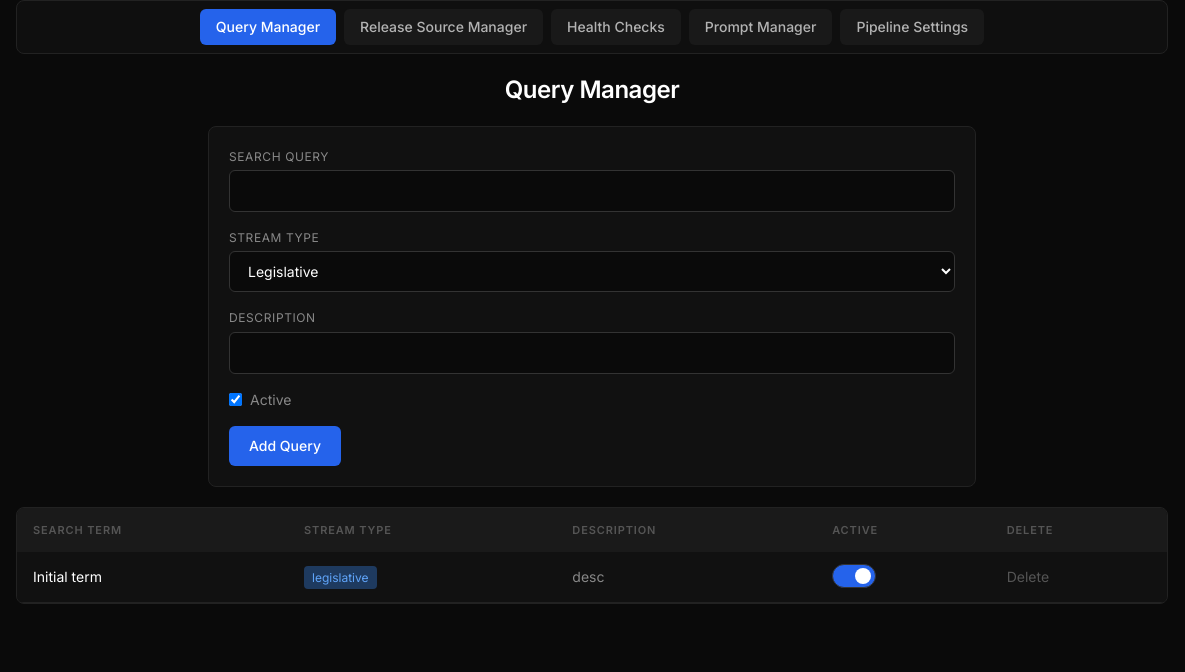
Test: Settings › can add, toggle active state, and delete queries
Check: the text "Initial term" is shown, box left=17, top=552, right=288, bottom=602
Type " New query" into the field labelled "Search query" at [592, 191], box left=229, top=170, right=955, bottom=212
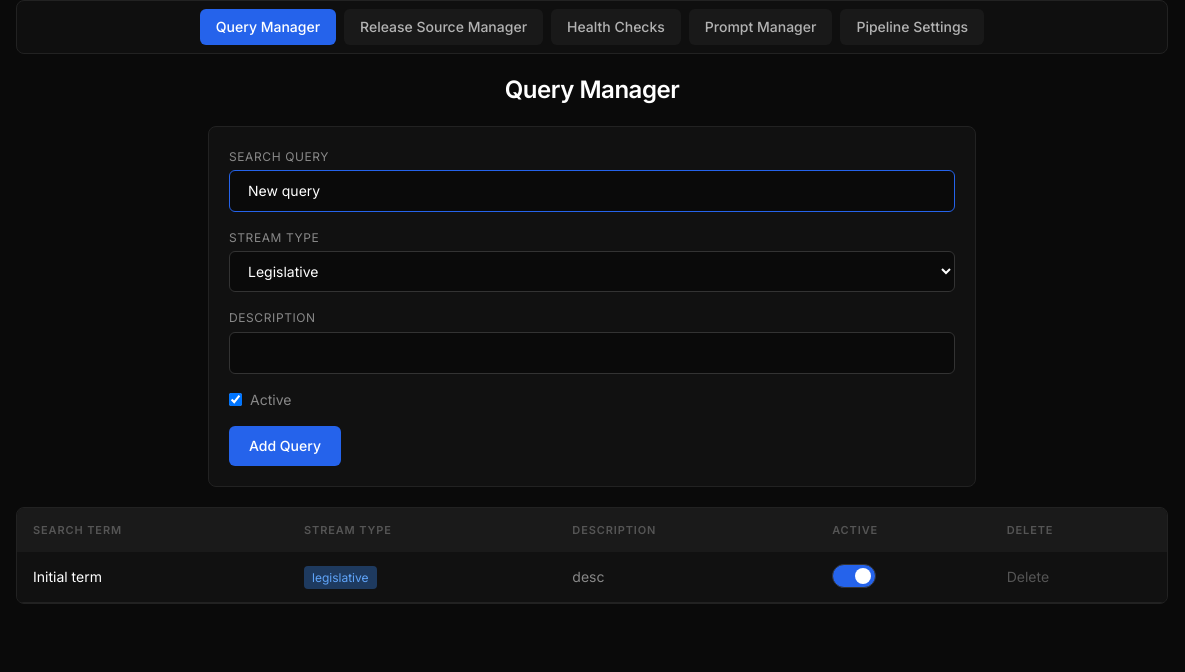
Type " Optional description" into the field labelled "Description" at [592, 353], box left=229, top=332, right=955, bottom=374
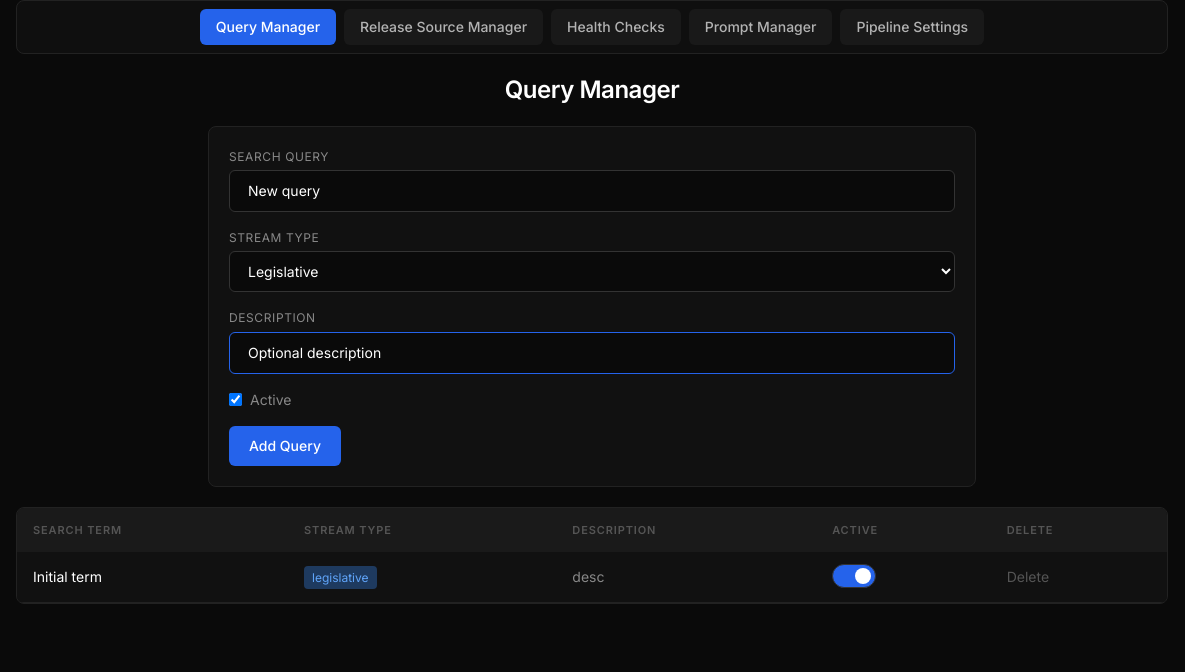
Click the button "Add Query" at [285, 446], box left=229, top=426, right=341, bottom=466
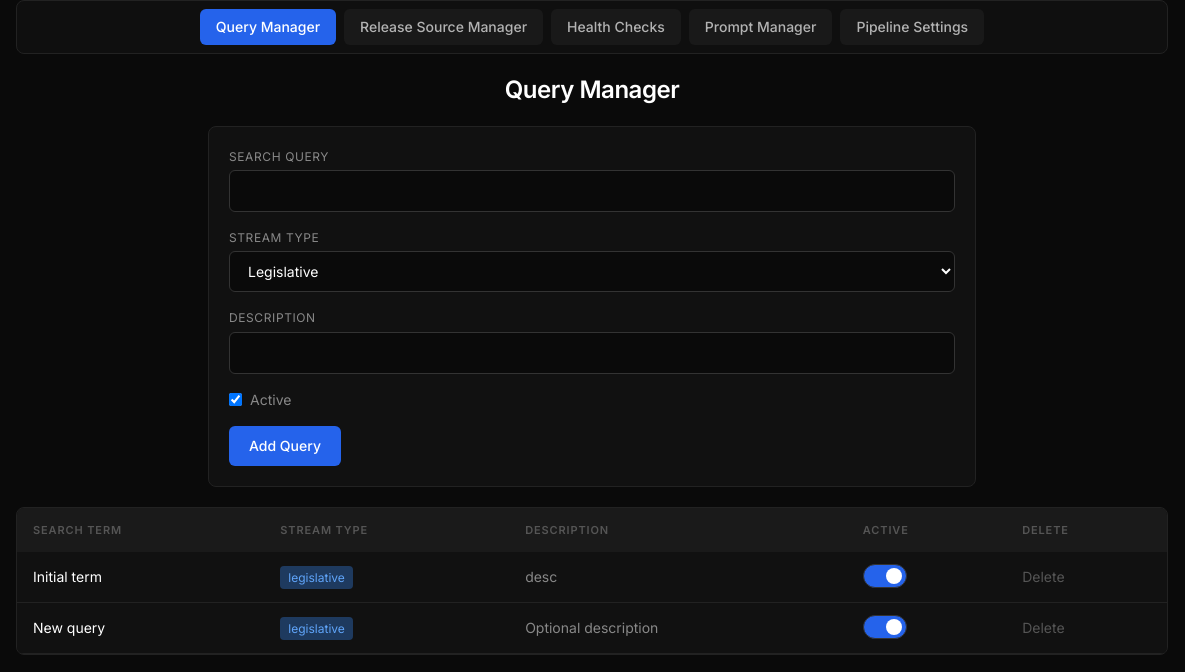
Check: the text "New query" is shown, box left=17, top=602, right=264, bottom=653
Click the button named "toggle-1" at [885, 576], box left=863, top=564, right=907, bottom=588
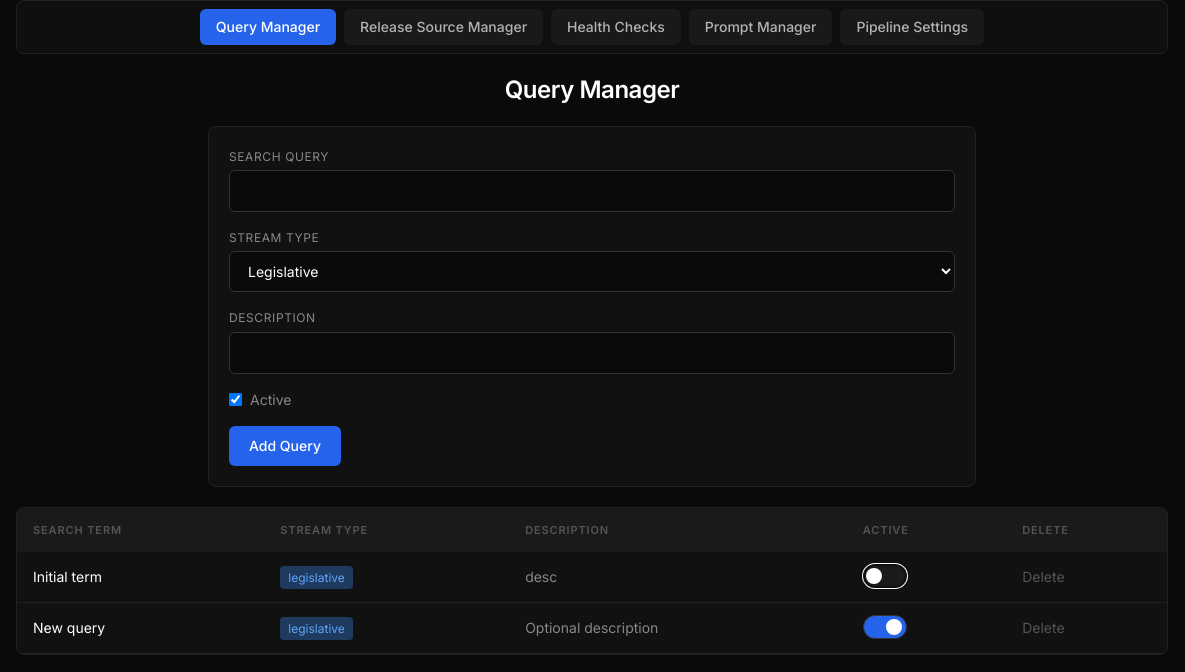
Click the button "Delete" in the row of "Initial term" at [1043, 577], box left=1022, top=567, right=1064, bottom=587
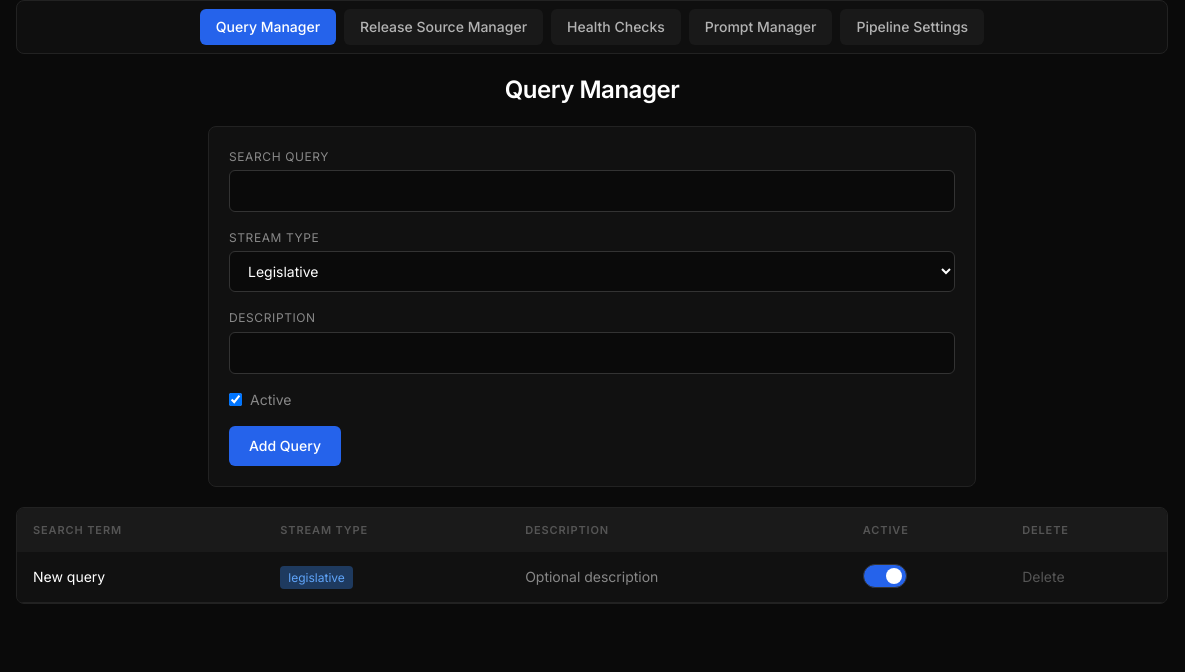
Check: the text "Initial term" is gone
